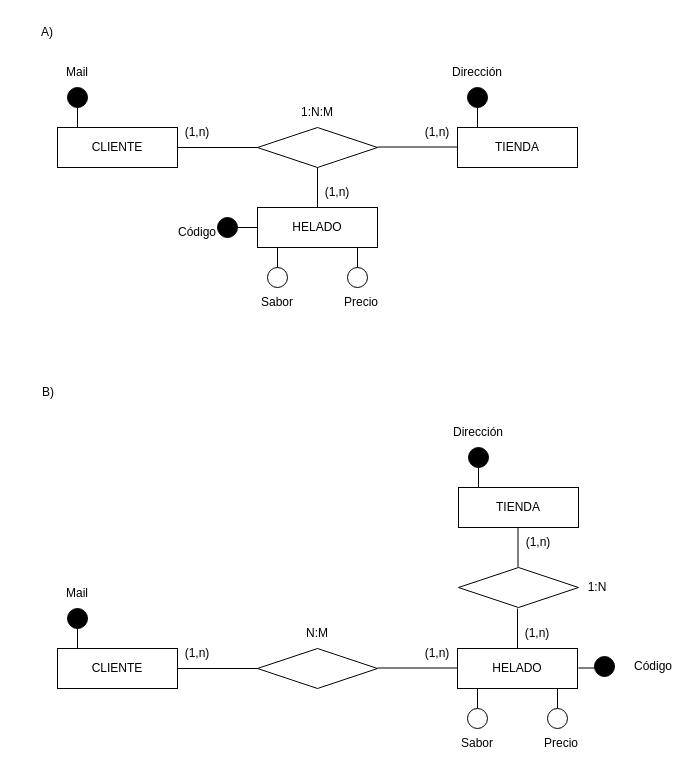
The diagram is 700 pixels wide and 775 high, and some of its shapes have lost their labels. Here are the shapes that lost their labels. From the top down, the centre of each, then its label:
At (x=317, y=147): "VENDE".
At (x=518, y=587): "FABRICA".
At (x=317, y=668): "COMPRA".
